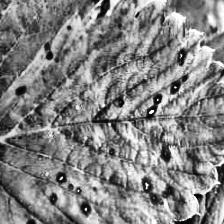Leaf Spot: (0, 0, 224, 224), (0, 0, 110, 136)
